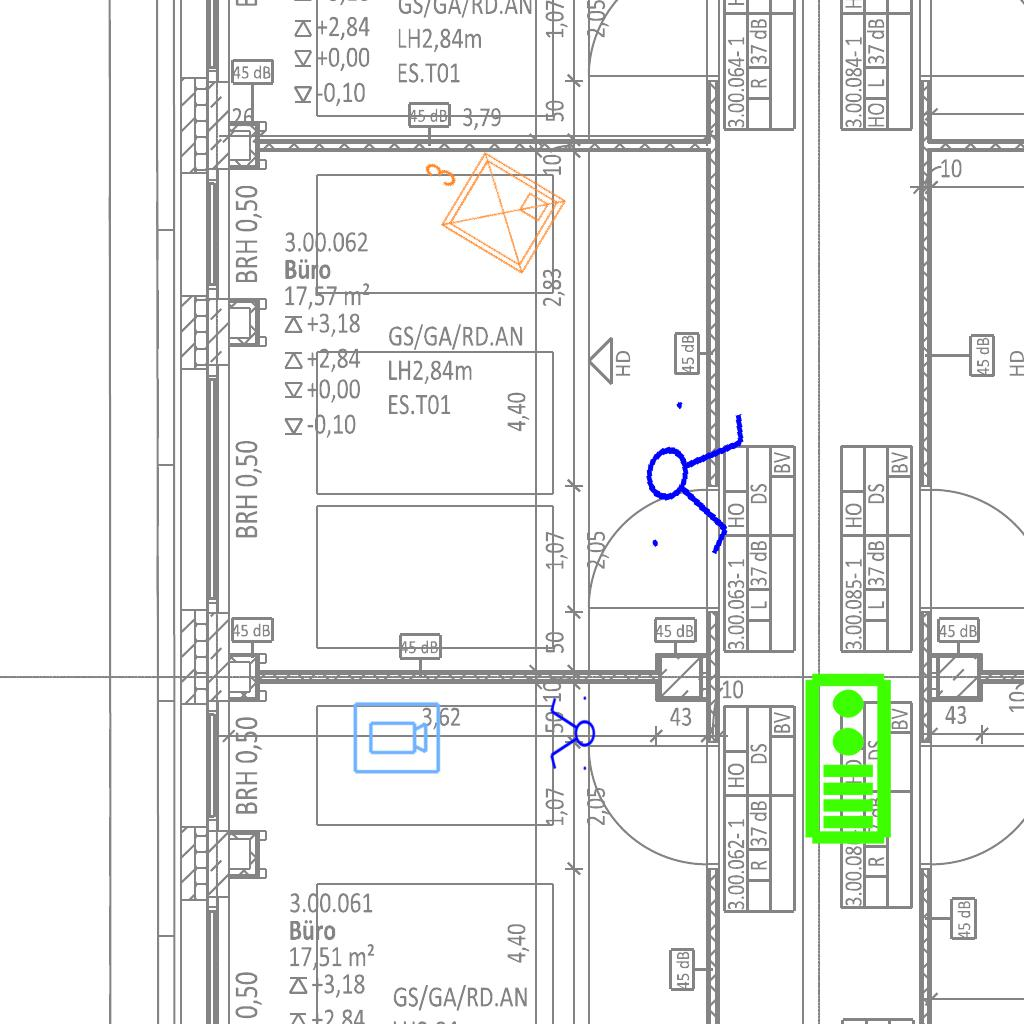Einbaudownlights_LED_Konferenzraeume: (393, 120, 577, 288)
Gegensprechanlage_mit_Video: (799, 670, 894, 846)
KFO_Kamera_mit_Festobjektiv: (351, 700, 442, 777)
Serienschalter: (631, 385, 755, 569), (548, 692, 596, 776)
